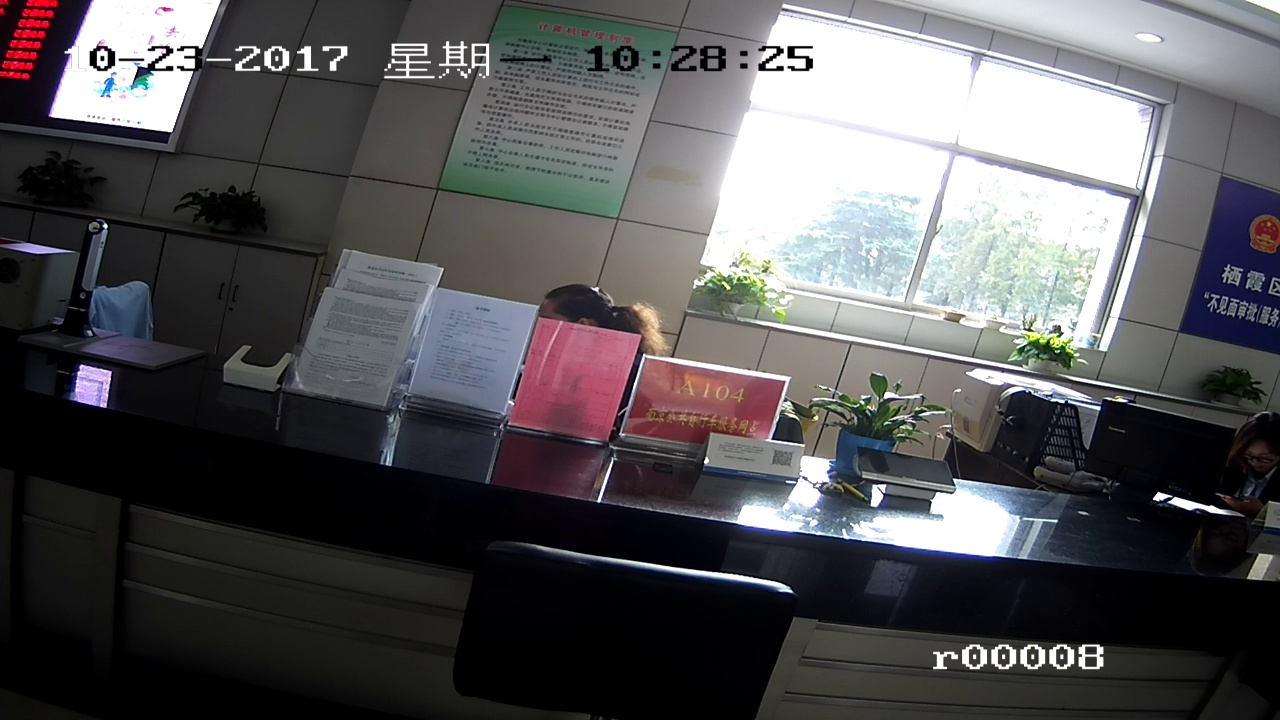billboard: (487, 20, 637, 227)
person: (826, 380, 927, 491), (547, 276, 654, 378), (1023, 334, 1084, 375)
pot: (178, 172, 273, 242), (702, 264, 794, 326), (30, 154, 105, 218)
